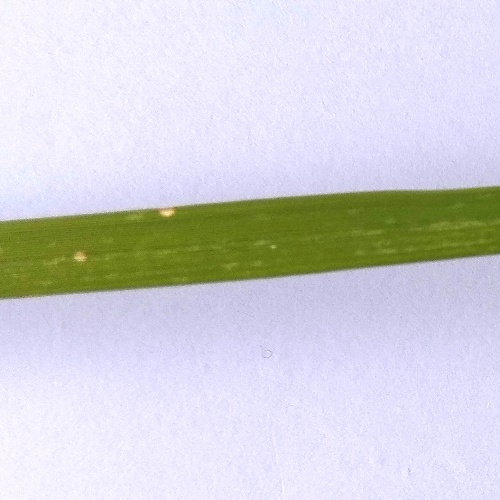Busuk Leher: (152, 203, 181, 222), (71, 244, 93, 266)
